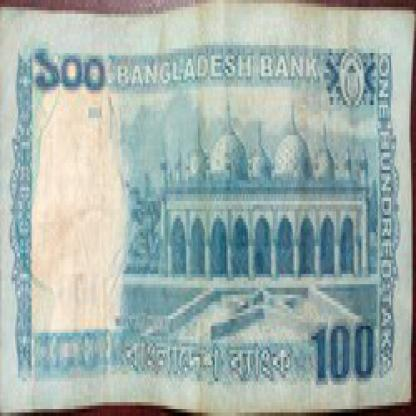one hundred taka: (25, 38, 115, 97), (308, 309, 378, 382)
